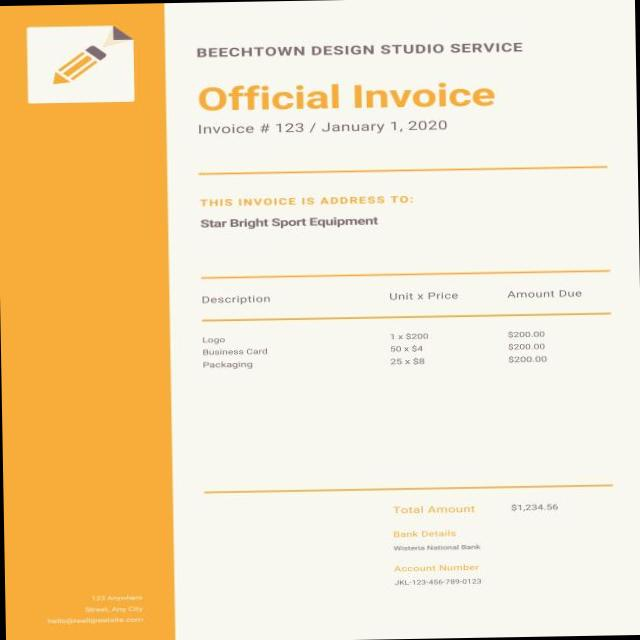customer_name: (197, 210, 383, 235)
invoice_date: (318, 115, 451, 139)
invoice_number: (257, 118, 307, 138)
invoice_total: (508, 496, 564, 516)
item_description: (197, 327, 274, 374)
item_total_price: (503, 324, 548, 365)
item_unit_price: (384, 324, 432, 369)
supplier_address: (82, 590, 146, 616)
supplier_name: (192, 37, 524, 65)
